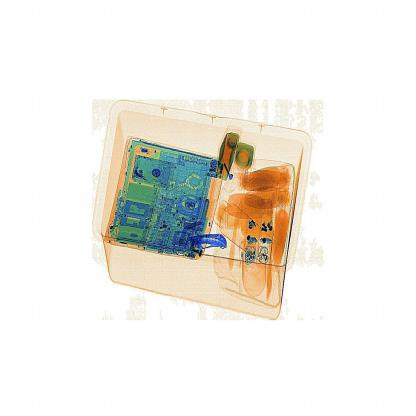knife: (181, 228, 235, 265)
